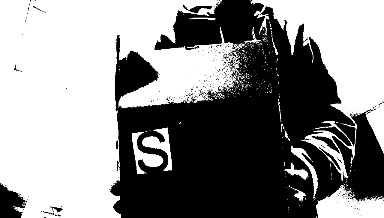S: (131, 129, 169, 173)
